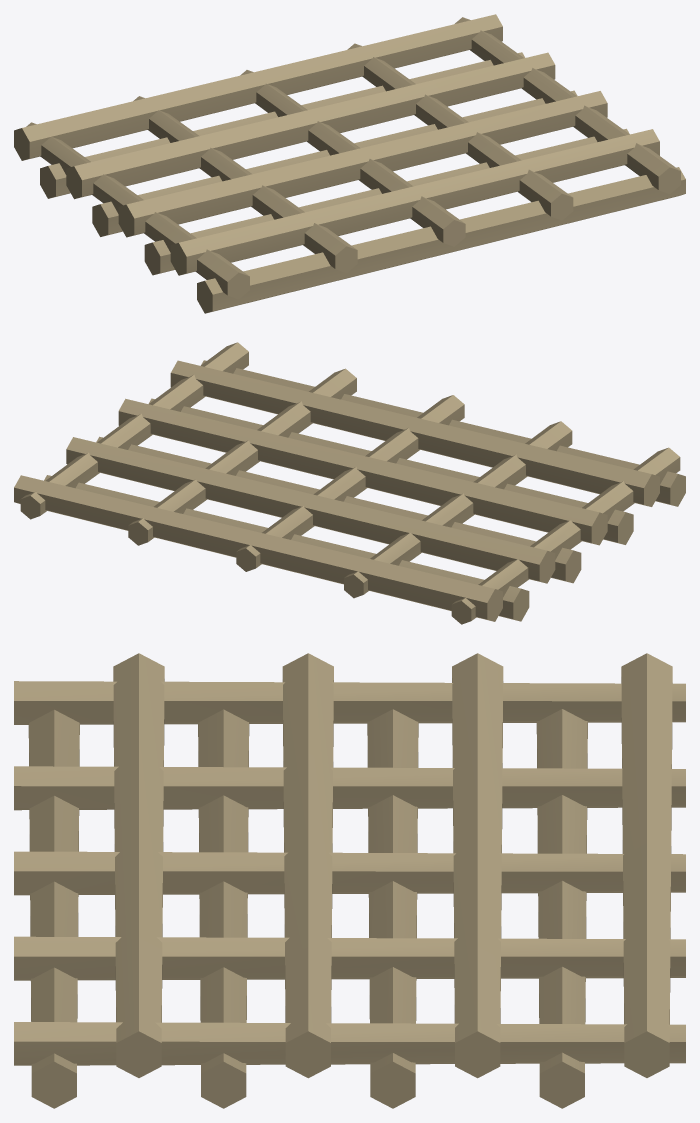
Rendered from net_folded.glb.
3 renders of one model, top to bottom at view 1: azimuth 30°, elevation 25°; view 2: azimuth 150°, elevation 25°; view 3: azimuth 270°, elevation 25°, orthographic. The views are drawn at different scales.
Visible parts, largest first — view 1: net_folded; view 2: net_folded; view 3: net_folded.
Part boxes in pixels (x1=…): net_folded: x1=14, y1=14, x2=685, y2=313; net_folded: x1=14, y1=342, x2=685, y2=624; net_folded: x1=14, y1=653, x2=685, y2=1108.
Bounding box in the file's own units: 0.66 × 0.069 × 0.5.
